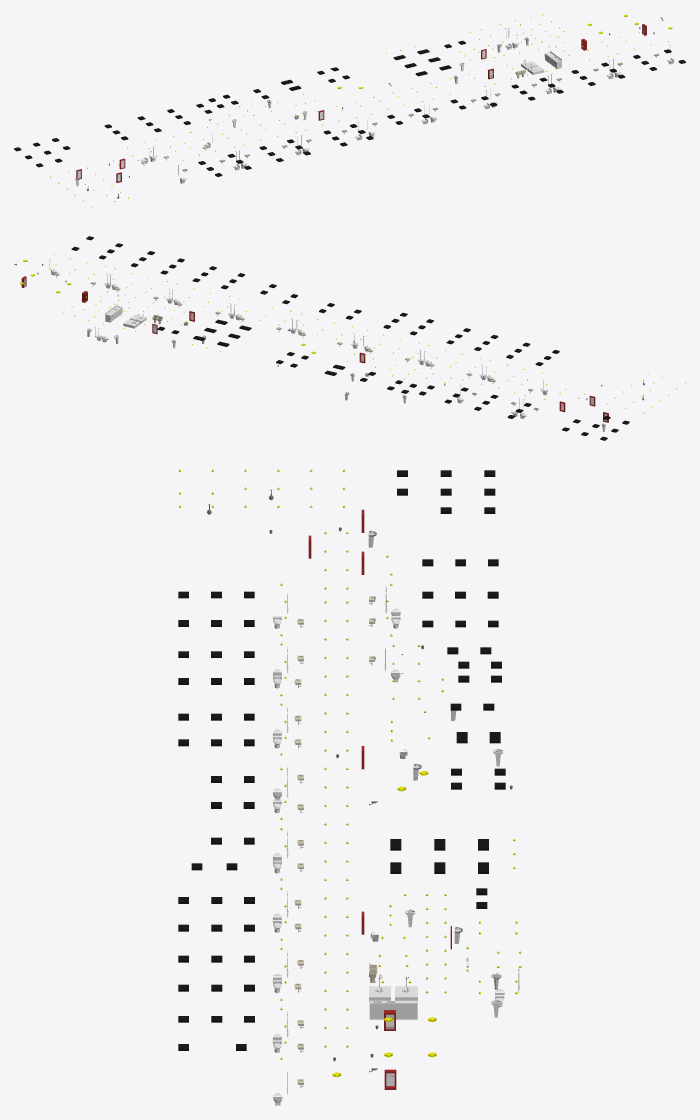
File: F9_shebei.glb
3 views of the same model, one above another, from view 1: azimuth 30°, elevation 25°; view 2: azimuth 150°, elevation 25°; view 3: azimuth 270°, elevation 25° (orthographic). The views are drawn at different scales.
Bounding box in the file's own units: 78.53 × 3.07 × 18.84.
